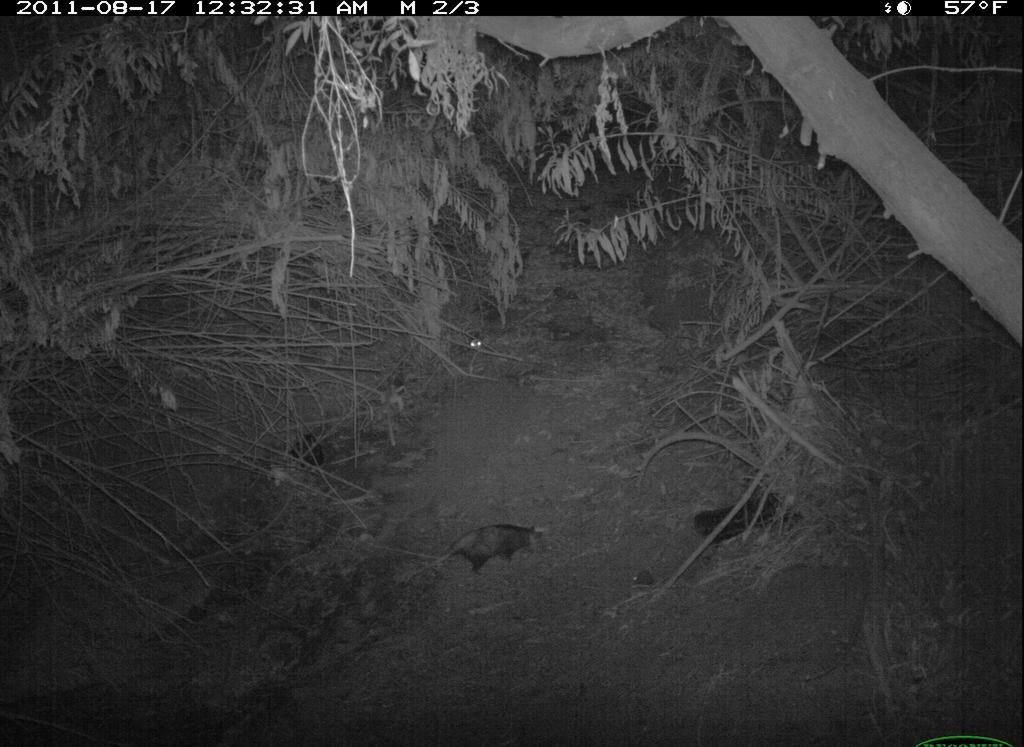opossum: (402, 518, 546, 588)
